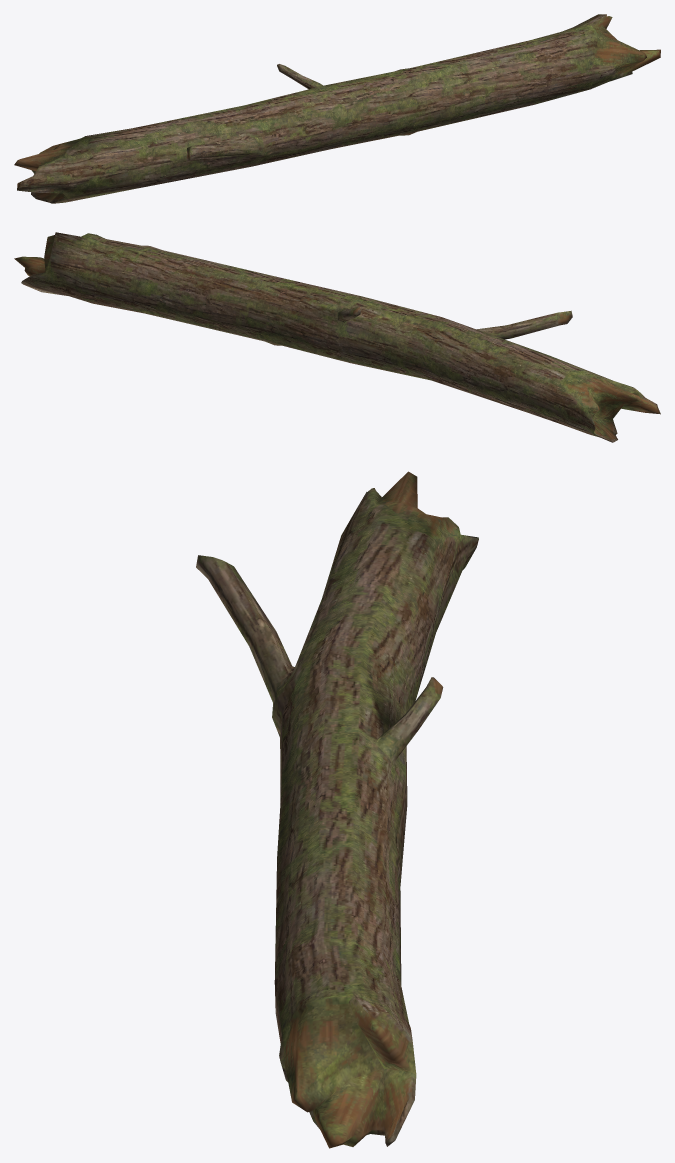
Rendered from TreeBroken9.fbx.
3 views of the same model, one above another, from view 1: azimuth 30°, elevation 25°; view 2: azimuth 150°, elevation 25°; view 3: azimuth 270°, elevation 25° (orthographic). The views are drawn at different scales.
Visible parts, largest first — view 1: SM_cmn_mount_BrokenTree_06a; view 2: SM_cmn_mount_BrokenTree_06a; view 3: SM_cmn_mount_BrokenTree_06a.
Part boxes in pixels (bbox=[...]): SM_cmn_mount_BrokenTree_06a: bbox=[14, 14, 660, 203]; SM_cmn_mount_BrokenTree_06a: bbox=[14, 232, 660, 442]; SM_cmn_mount_BrokenTree_06a: bbox=[196, 471, 478, 1148].
Bounding box in the file's own units: 559 × 64.84 × 108.
